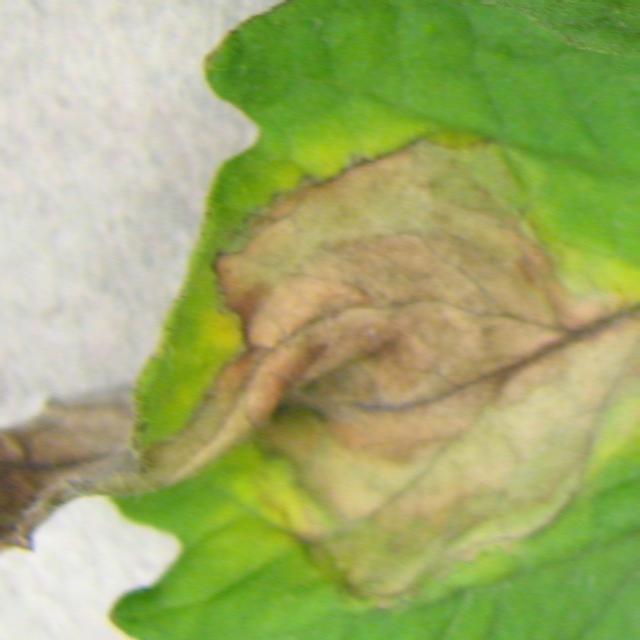Tomato leaf late blight: (0, 5, 640, 640), (0, 0, 640, 124)
